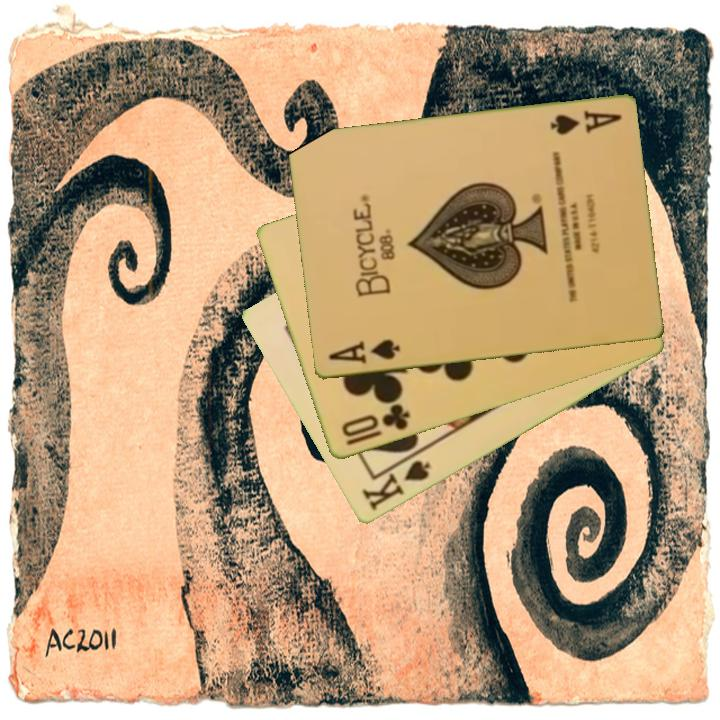10c: (337, 400, 413, 449)
As: (546, 107, 624, 139), (324, 336, 403, 367)
Ks: (358, 457, 433, 515)
